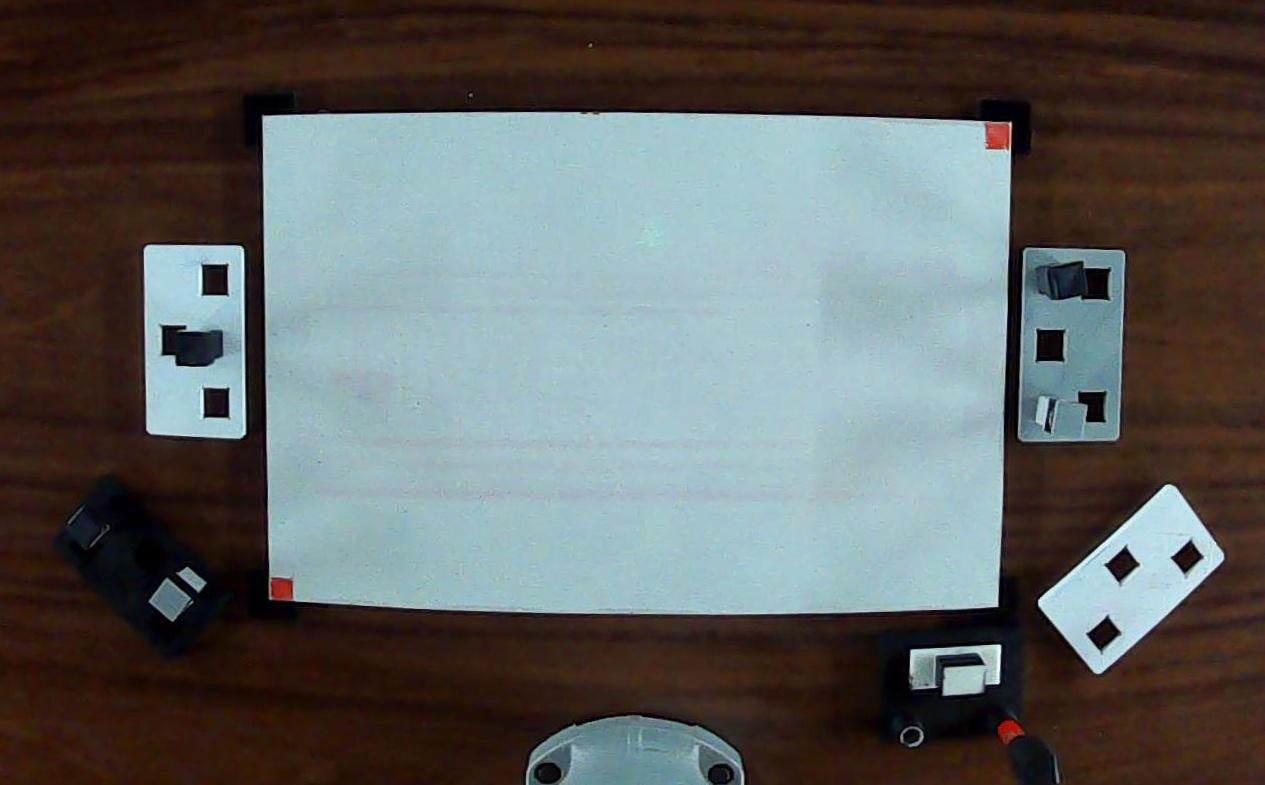pecaCinza: (146, 560, 212, 628), (1031, 390, 1090, 443)
pecaPreta: (57, 499, 114, 559), (167, 324, 232, 376), (1030, 256, 1093, 303)
